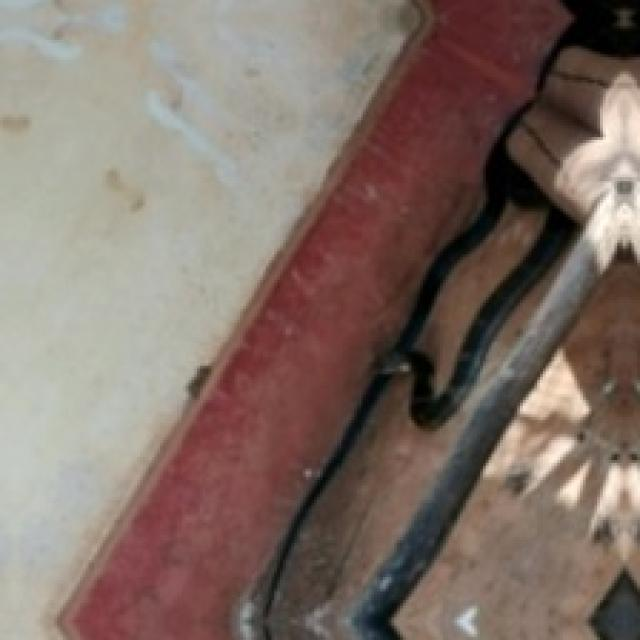king cobra: (257, 0, 637, 637)
